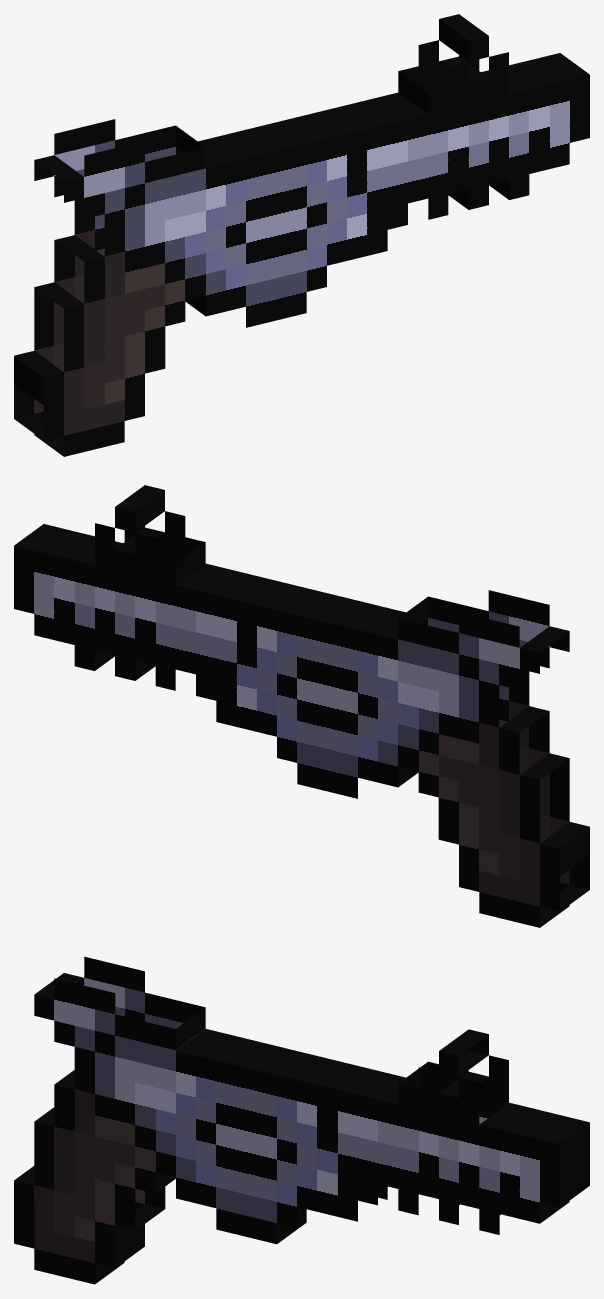
File: revolver.fbx
The picture shows the model from 3 angles, top to bottom: view 1: azimuth 30°, elevation 25°; view 2: azimuth 150°, elevation 25°; view 3: azimuth 330°, elevation 25°; orthographic projection.
Parts seen in each view (by area): view 1: Revolver; view 2: Revolver; view 3: Revolver.
Part boxes in pixels (x1,y1,x2,y2): Revolver: (14, 14, 589, 456); Revolver: (14, 485, 589, 927); Revolver: (14, 956, 589, 1284).
Bounding box in the file's own units: 159 × 88.2 × 15.
